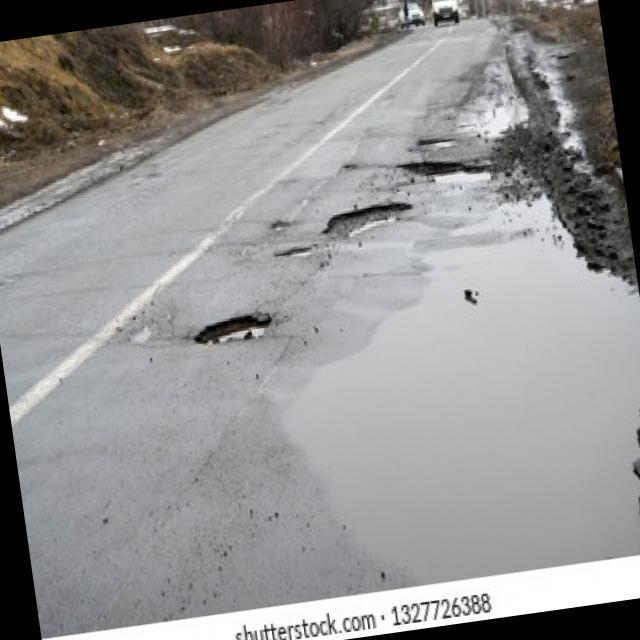Pothole: (395, 150, 493, 197), (318, 199, 416, 243), (194, 313, 276, 352), (274, 244, 316, 262), (419, 134, 457, 150), (270, 218, 287, 234), (339, 162, 357, 174)
